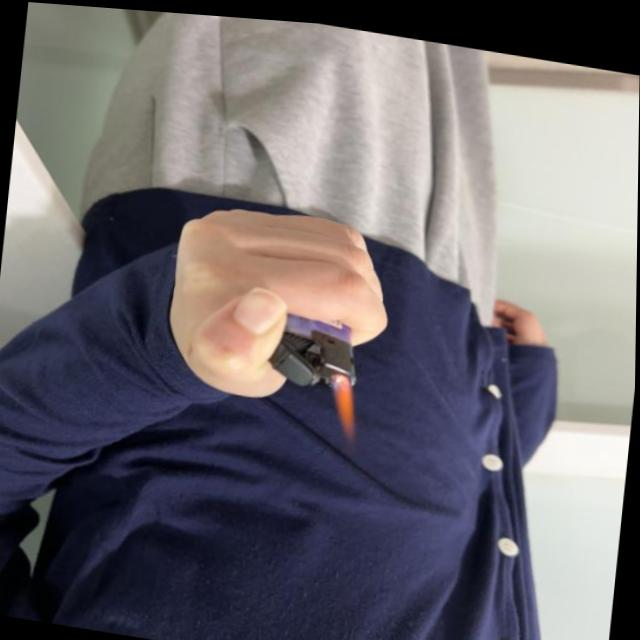Fire: (324, 364, 360, 440)
